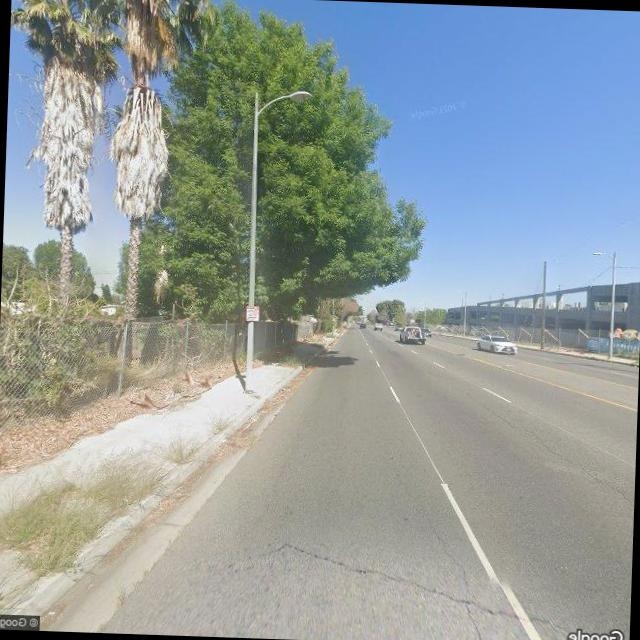crack: (279, 546, 582, 631), (479, 406, 626, 494)
